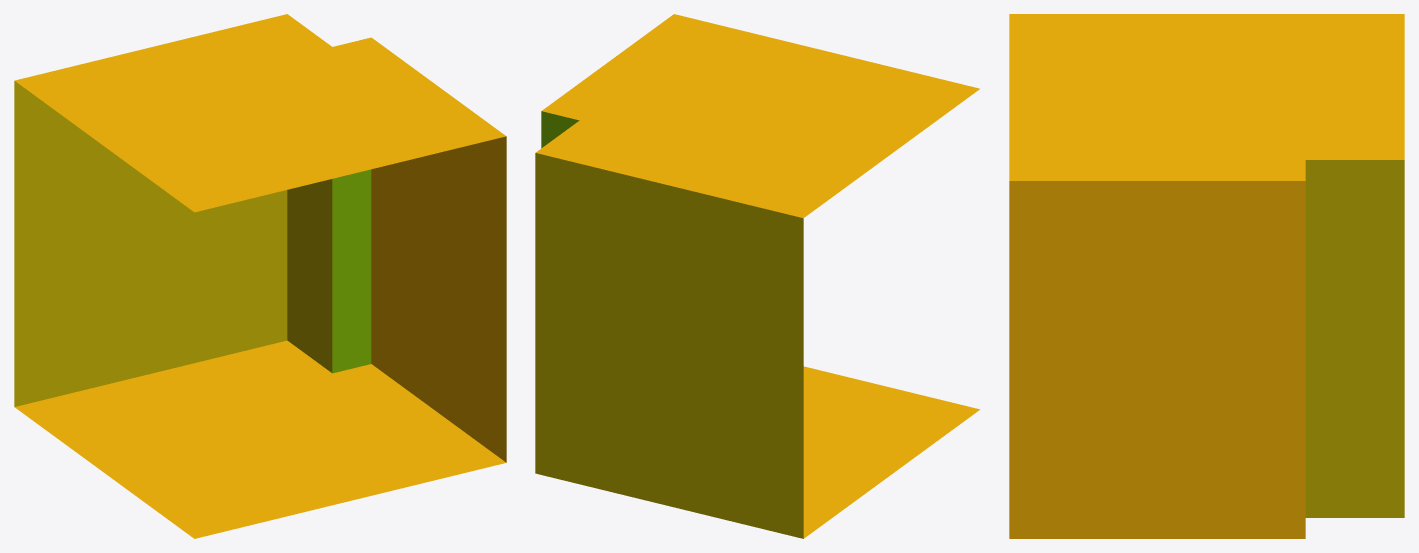
File: slitted_block_edge.dae
3 renders of one model, left to right at view 1: azimuth 30°, elevation 25°; view 2: azimuth 150°, elevation 25°; view 3: azimuth 270°, elevation 25°, orthographic. The views are drawn at different scales.
Parts seen in each view (by area): view 1: Cube; view 2: Cube; view 3: Cube.
Part boxes in pixels (<box>): Cube: <box>14,14,506,538</box>; Cube: <box>535,14,980,538</box>; Cube: <box>1009,14,1404,538</box>.
Bounding box in the file's own units: 0.25 × 0.25 × 0.25.
